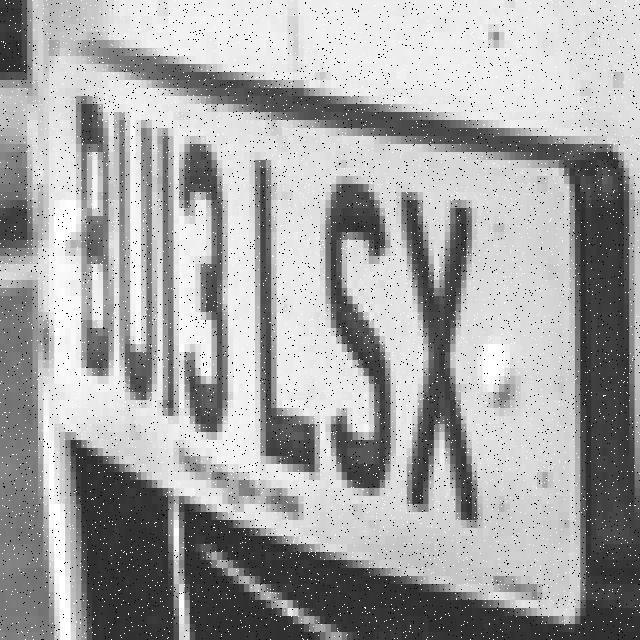LicensePlate: (19, 23, 605, 630)
